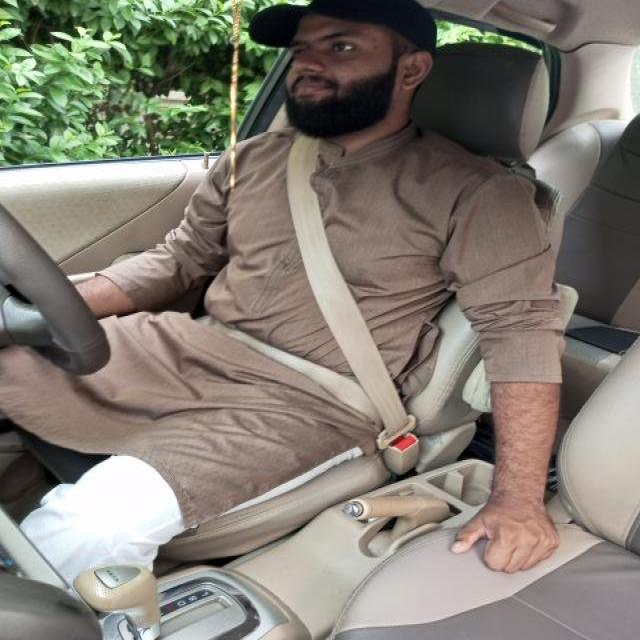seatbelt: (208, 133, 472, 480)
